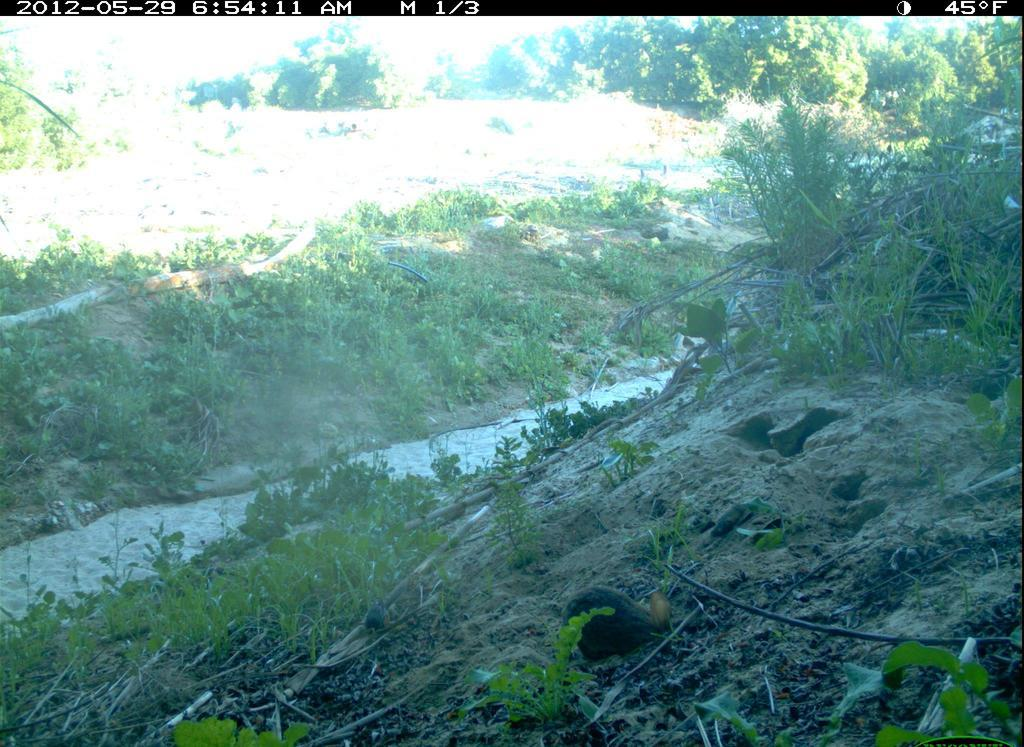rabbit: (557, 574, 681, 664)
